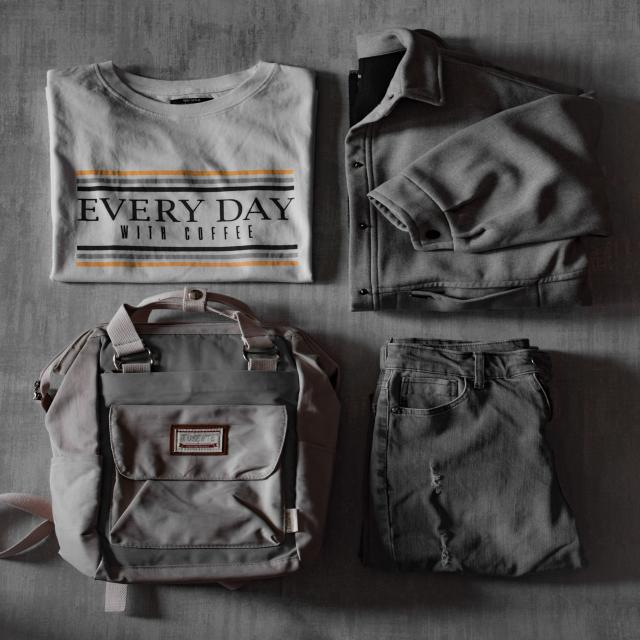backpack: (35, 293, 340, 589)
